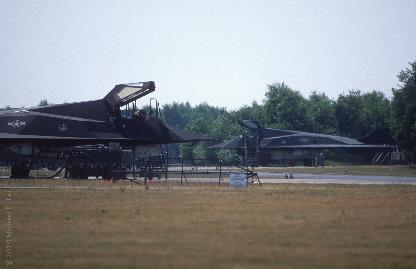E7: (0, 81, 222, 178), (206, 118, 396, 165)
